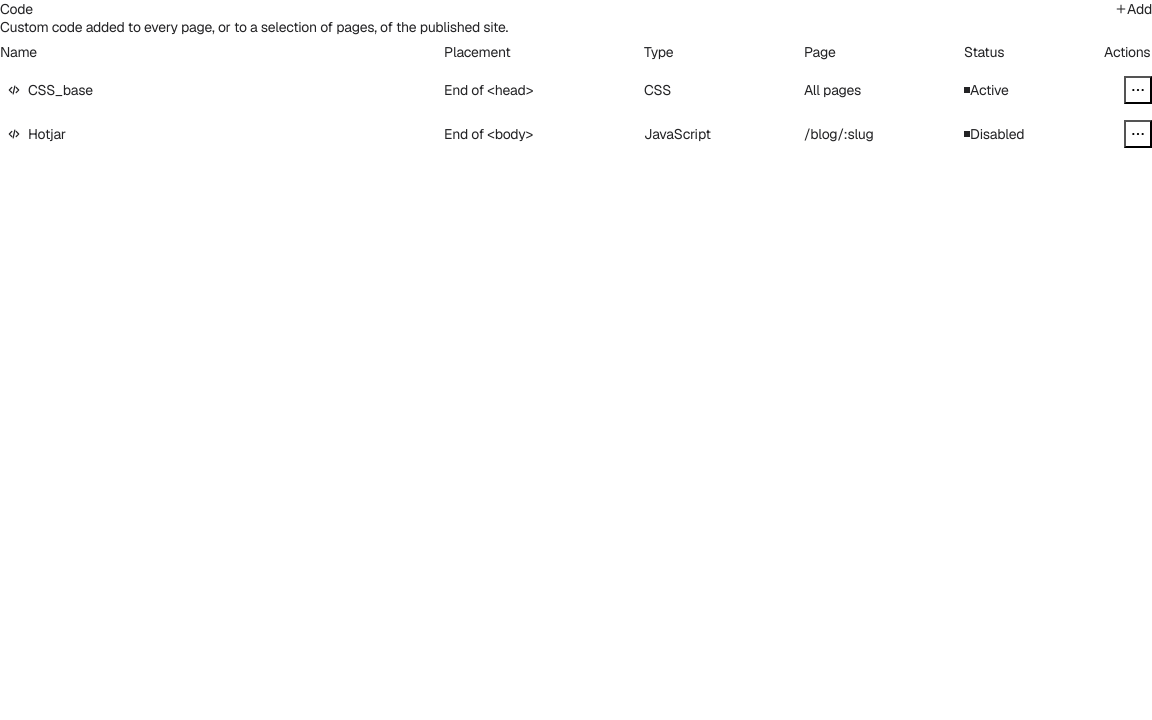
Test: CodeScreen › clic sur le nom = Edit, valeurs du script dans la fenêtre
What coordinates should you click on to do the following:
click the button "Hotjar"
I would click on:
 (47, 134)
Its box is [28, 125, 66, 143].
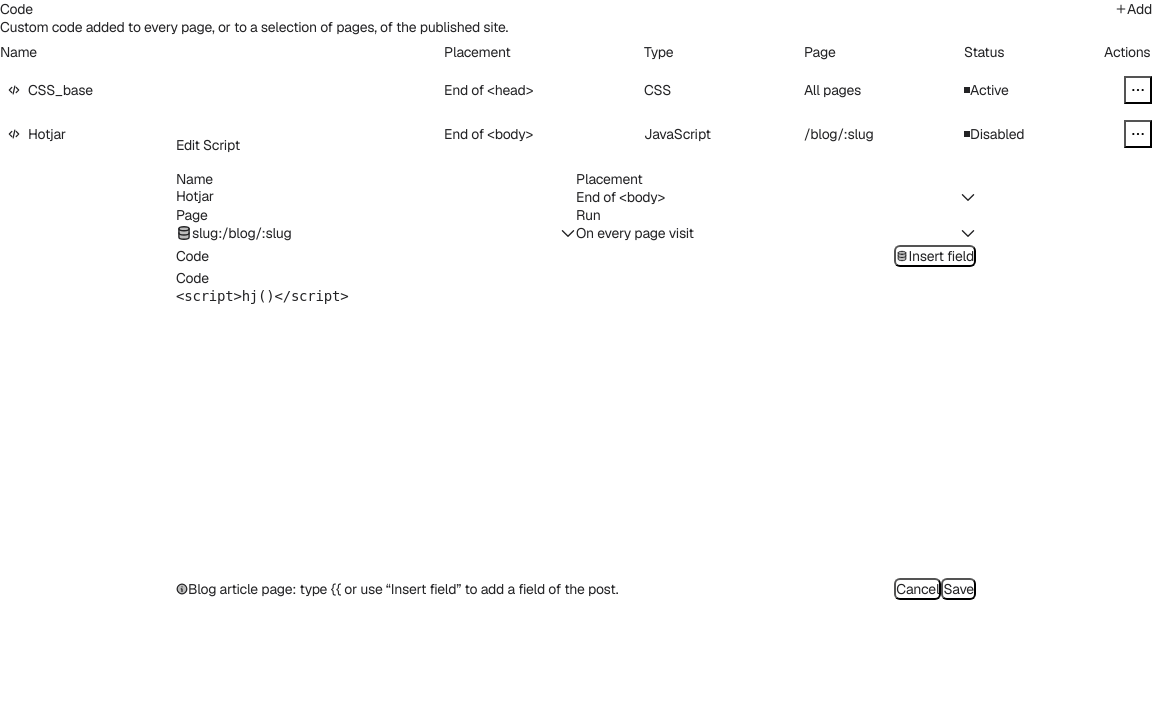
Now the field labelled "Name" holds "Hotjar", box [176, 188, 576, 204]
Now the button "Insert field" is shown, box [894, 245, 976, 267]
